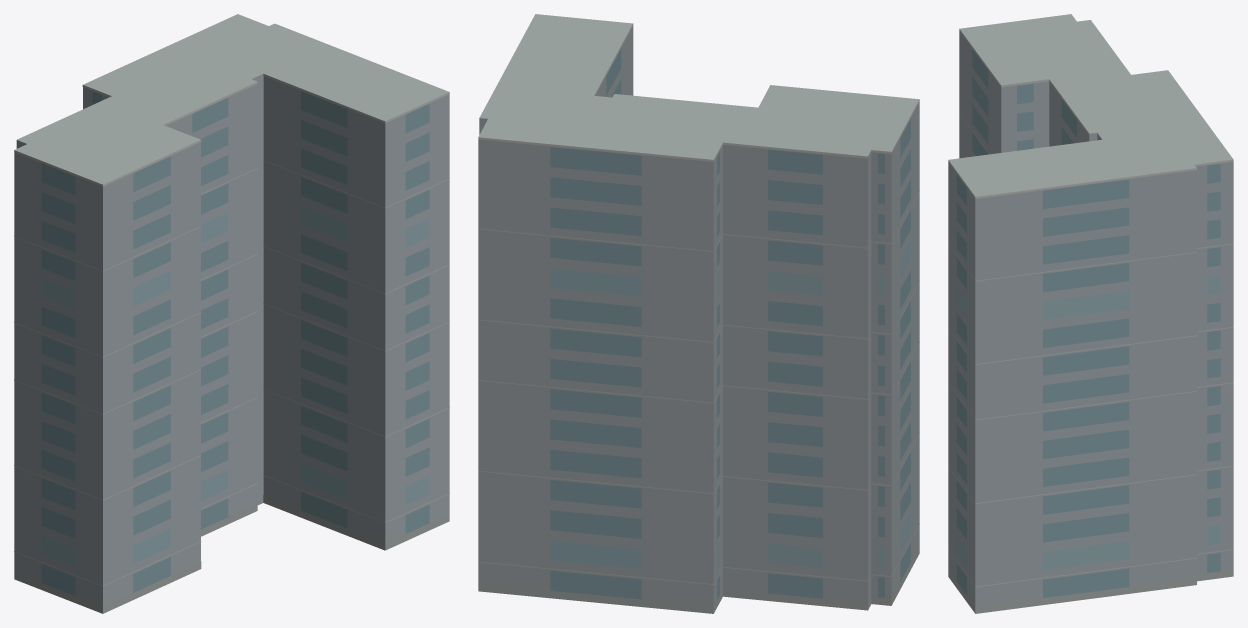
Rendered from residential-7a81b892-f011-416f-aff7-2a465b8c8004.glb.
The picture shows the model from 3 angles, left to right: view 1: azimuth 30°, elevation 25°; view 2: azimuth 150°, elevation 25°; view 3: azimuth 270°, elevation 25°; orthographic projection. The views are drawn at different scales.
Parts seen in each view (by area): view 1: residential-7a81b892-f011-416f-aff7-2a465b8c8004.tmp; view 2: residential-7a81b892-f011-416f-aff7-2a465b8c8004.tmp; view 3: residential-7a81b892-f011-416f-aff7-2a465b8c8004.tmp.
Boxes of the visible parts, x1=… form: residential-7a81b892-f011-416f-aff7-2a465b8c8004.tmp: x1=14, y1=14, x2=449, y2=613; residential-7a81b892-f011-416f-aff7-2a465b8c8004.tmp: x1=478, y1=14, x2=919, y2=613; residential-7a81b892-f011-416f-aff7-2a465b8c8004.tmp: x1=948, y1=14, x2=1233, y2=613.
Bounding box in the file's own units: 47.09 × 50 × 31.04.
